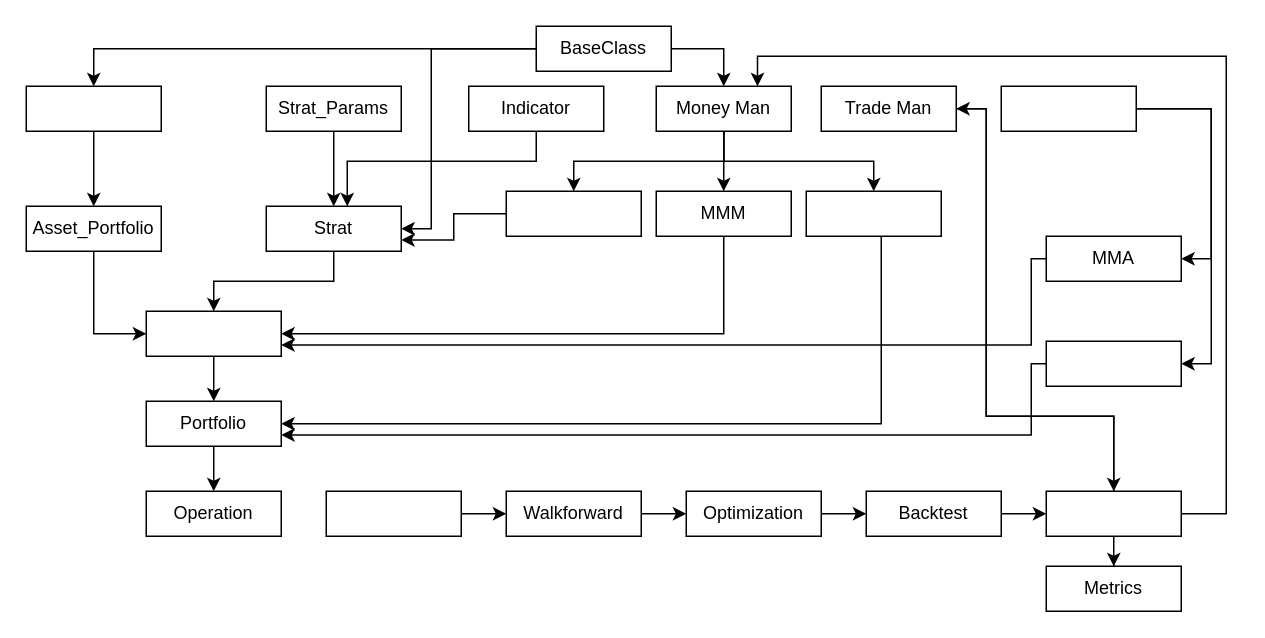
This 1265x638 diagram has some shape labels left out. Here are the shapes that lost their labels. From the top down, the centre of each, then its label:
the point at 93,108: Asset
the point at 1068,108: System Man
the point at 573,213: SMM
the point at 873,213: PMM
the point at 213,333: Model
the point at 1113,363: PMA
the point at 393,513: WF Matrix
the point at 1113,513: Trade
